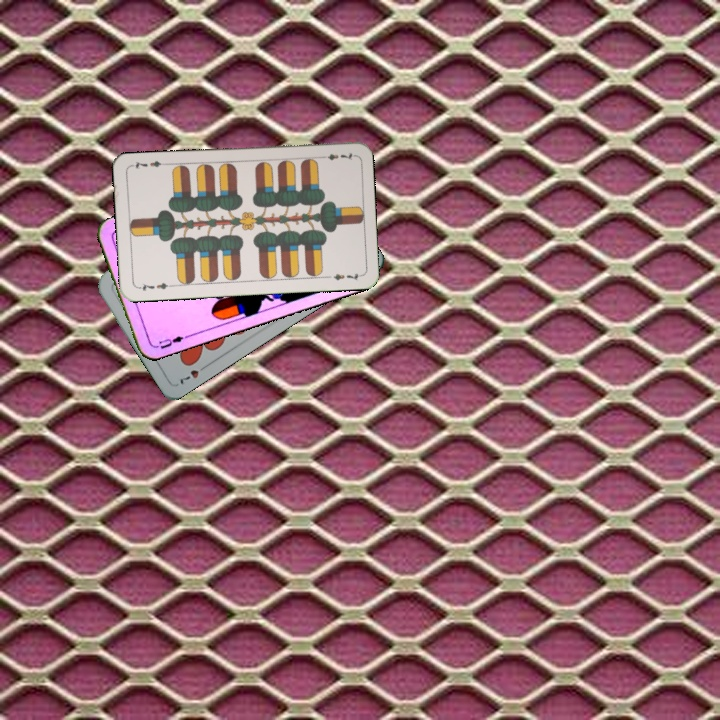E7: (134, 279, 175, 294), (316, 149, 356, 163)
EU: (150, 332, 189, 351)
H7: (176, 360, 210, 387)
